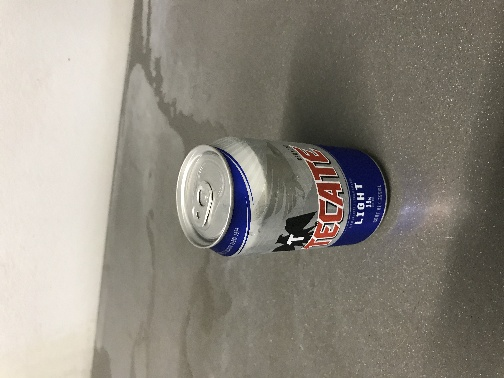TLL: (126, 98, 282, 188)
